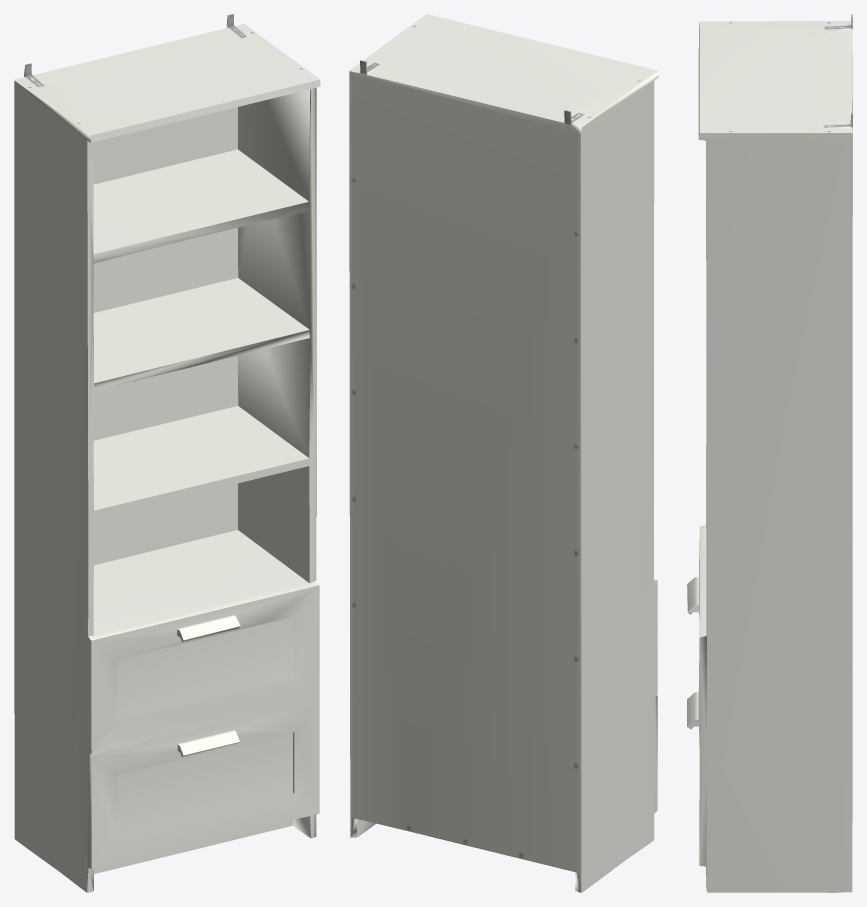
File: BRIMNES_90301225.glb
3 views of the same model, side by side, from view 1: azimuth 30°, elevation 25°; view 2: azimuth 150°, elevation 25°; view 3: azimuth 270°, elevation 25° (orthographic).
Visible parts, largest first — view 1: ProcessedMeshNode; view 2: ProcessedMeshNode; view 3: ProcessedMeshNode.
Boxes of the visible parts, <box> form: ProcessedMeshNode: <box>14,14,320,892</box>; ProcessedMeshNode: <box>349,14,658,892</box>; ProcessedMeshNode: <box>687,14,852,892</box>.
Bounding box in the file's own units: 0.6027 × 1.94 × 0.3761.
Materials: 1 (1 with a texture image).
